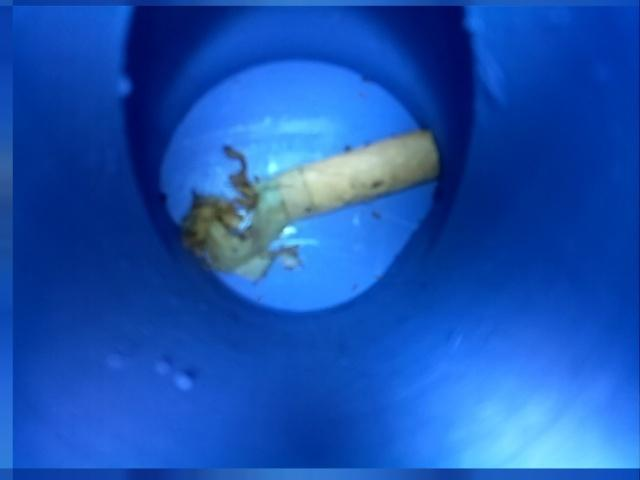megot: (170, 117, 444, 290)
